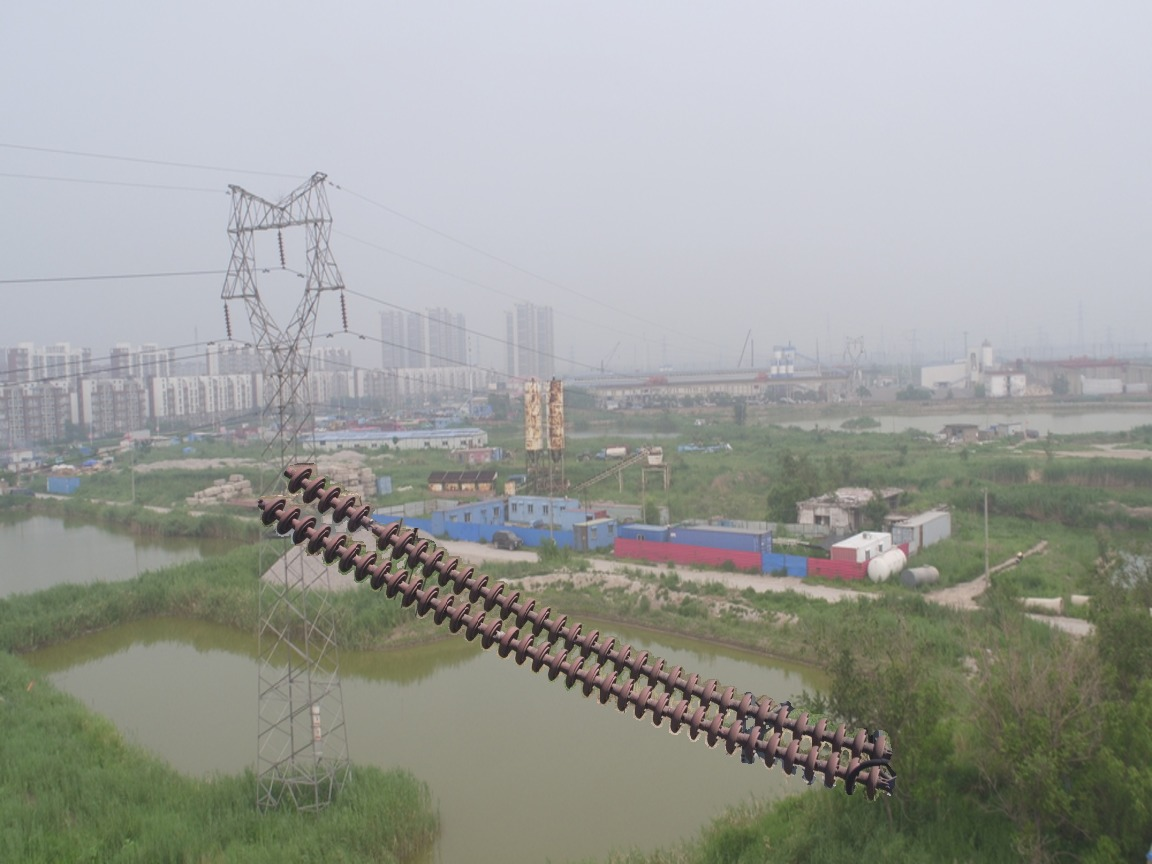defect: (345, 499, 405, 551)
